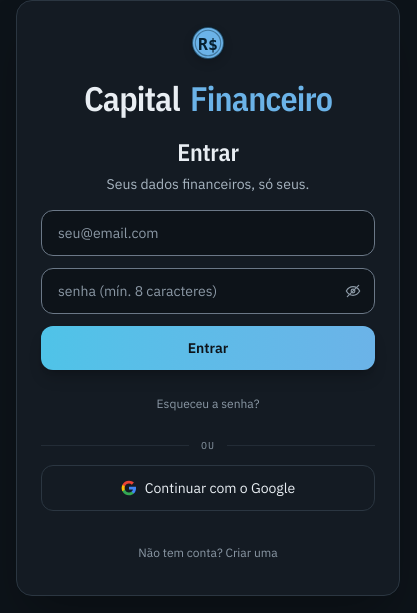
Test case: Auth — porta de entrada da recuperação › o link "Esqueceu a senha?" troca o card para o pedido de link
Click the button "Esqueceu a senha?": {"x": 208, "y": 404} [41,382,375,426]
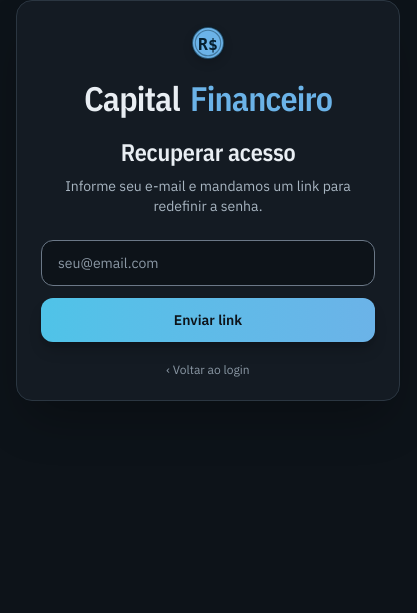
Result: the button "Enviar link" is shown at [41,298,375,342]
Result: the heading "Entrar" is gone
